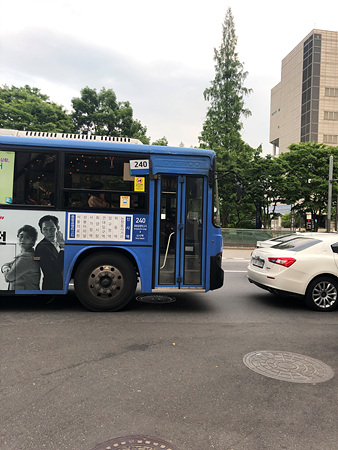entrance: (156, 165, 206, 291)
